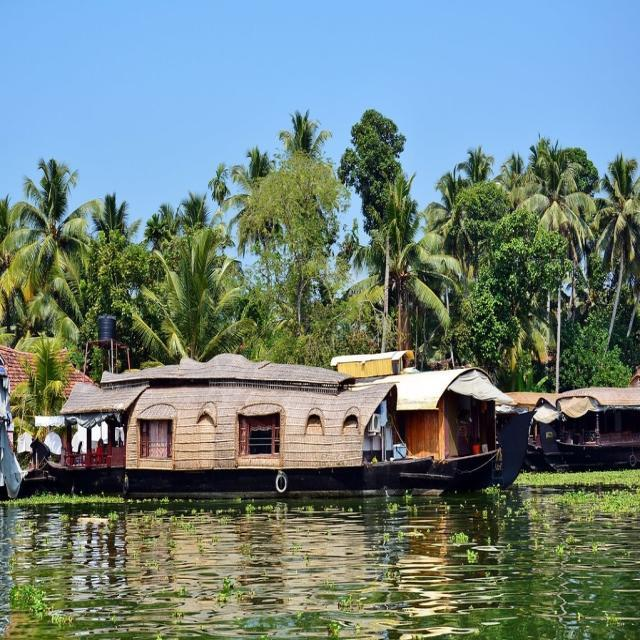Hyacinth: (510, 459, 640, 496), (12, 585, 72, 628), (545, 492, 640, 515), (20, 492, 126, 511), (209, 580, 240, 602), (333, 591, 364, 610), (450, 530, 470, 544), (550, 542, 569, 556), (467, 548, 481, 562), (482, 485, 498, 495)
boat: (53, 360, 445, 506)
